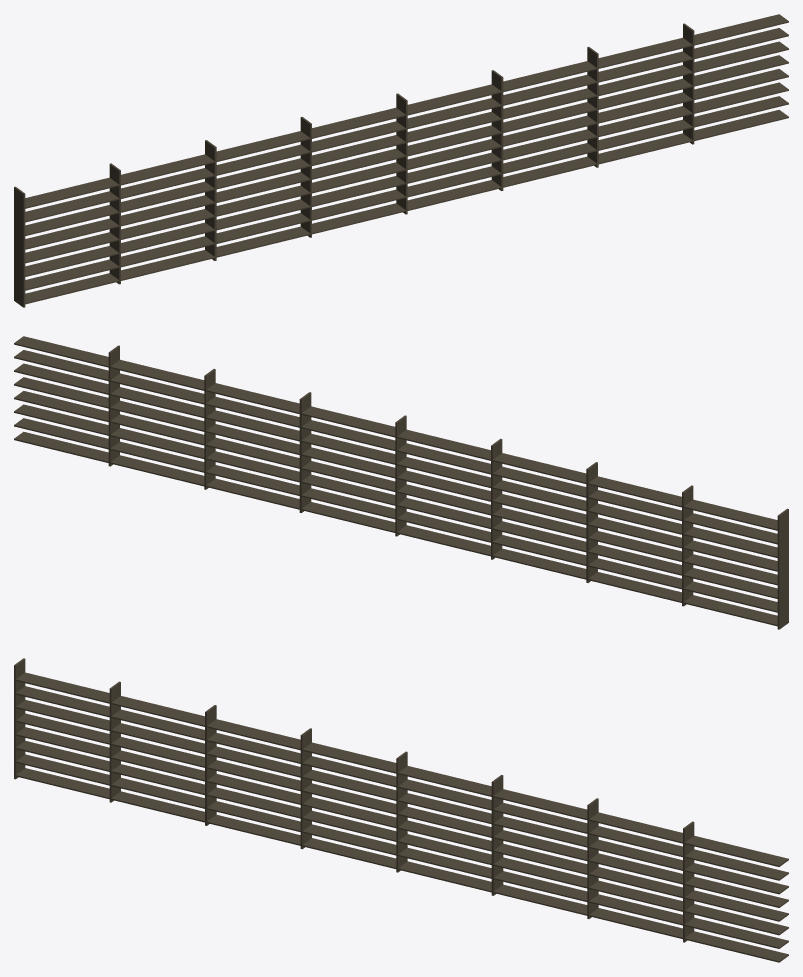
File: ShelfModule.glb
The picture shows the model from 3 angles, top to bottom: view 1: azimuth 30°, elevation 25°; view 2: azimuth 150°, elevation 25°; view 3: azimuth 330°, elevation 25°; orthographic projection.
Parts seen in each view (by area): view 1: ShelfModule; view 2: ShelfModule; view 3: ShelfModule.
Boxes of the visible parts, x1,y1,x2,y2 form: ShelfModule: [14, 14, 788, 307]; ShelfModule: [14, 336, 788, 629]; ShelfModule: [14, 658, 788, 962].
Bounding box in the file's own units: 22.89 × 3.25 × 0.5.
